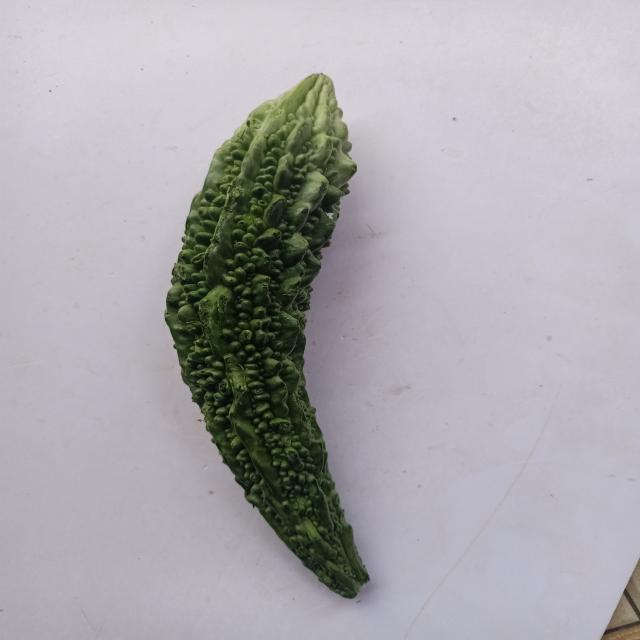Bitter Gourd: (120, 53, 492, 629)
